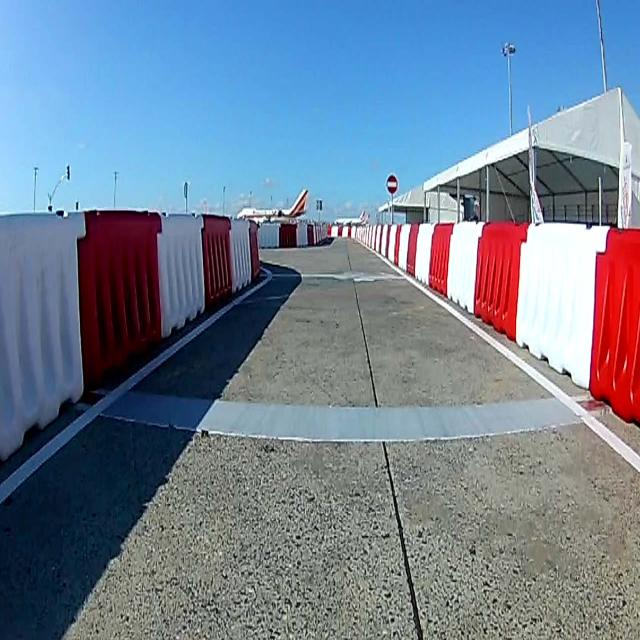girisyok: (386, 174, 398, 192)
